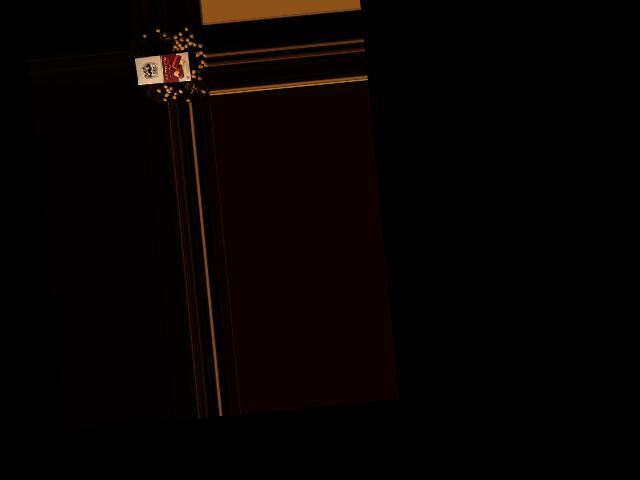chocolate: (133, 49, 193, 87)
